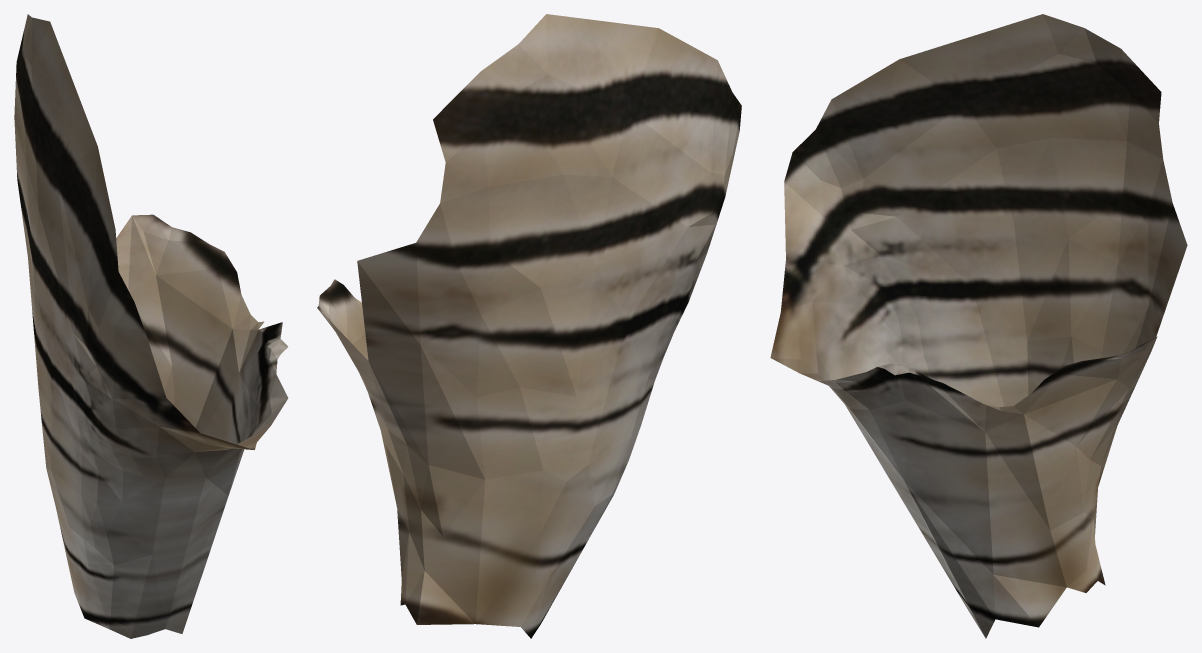
The model's file is Zpatatd.obj.
The picture shows the model from 3 angles, left to right: view 1: azimuth 30°, elevation 25°; view 2: azimuth 150°, elevation 25°; view 3: azimuth 270°, elevation 25°; orthographic projection. The views are drawn at different scales.
Visible parts, largest first — view 1: PTD; view 2: PTD; view 3: PTD.
Part boxes in pixels (x1=…): PTD: x1=14, y1=14, x2=288, y2=638; PTD: x1=317, y1=14, x2=741, y2=638; PTD: x1=770, y1=14, x2=1187, y2=638.
Size of the model in its own units: 0.2929 by 0.6966 by 0.4555.
Materials: 1 (1 with a texture image).
